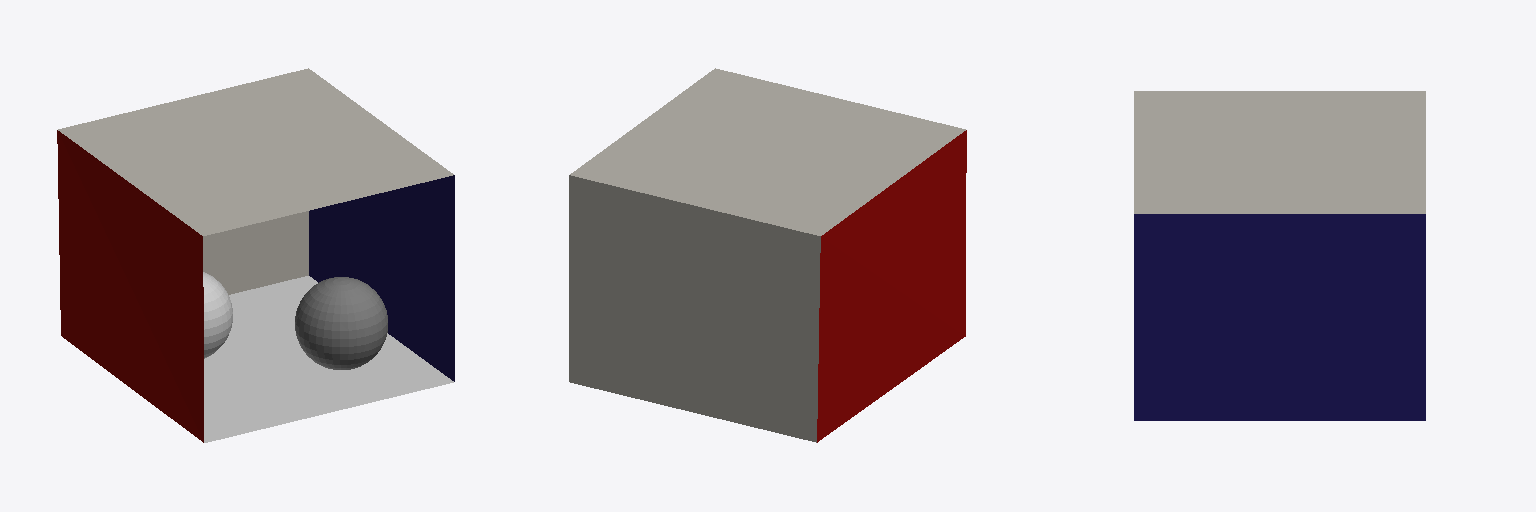
The model's file is cornell-diffuse-glossy-sphere.obj.
3 renders of one model, left to right at view 1: azimuth 30°, elevation 25°; view 2: azimuth 150°, elevation 25°; view 3: azimuth 270°, elevation 25°, orthographic.
Visible parts, largest first — view 1: ceiling, leftWall, floor, rightWall, rightSphere, backWall, leftSphere; view 2: backWall, ceiling, leftWall; view 3: rightWall, ceiling.
Part boxes in pixels (x1,y1,x2,y2): ceiling: (58,68,453,235); leftWall: (57,130,203,442); floor: (204,276,453,442); rightWall: (309,175,454,381); rightSphere: (295,277,387,369); backWall: (203,211,308,294); leftSphere: (203,272,232,358); backWall: (569,175,820,442); ceiling: (570,68,965,235); leftWall: (817,130,966,442); rightWall: (1134,214,1425,420); ceiling: (1134,91,1425,213).
Bounding box in the file's own units: 2.02 × 1.59 × 2.03.